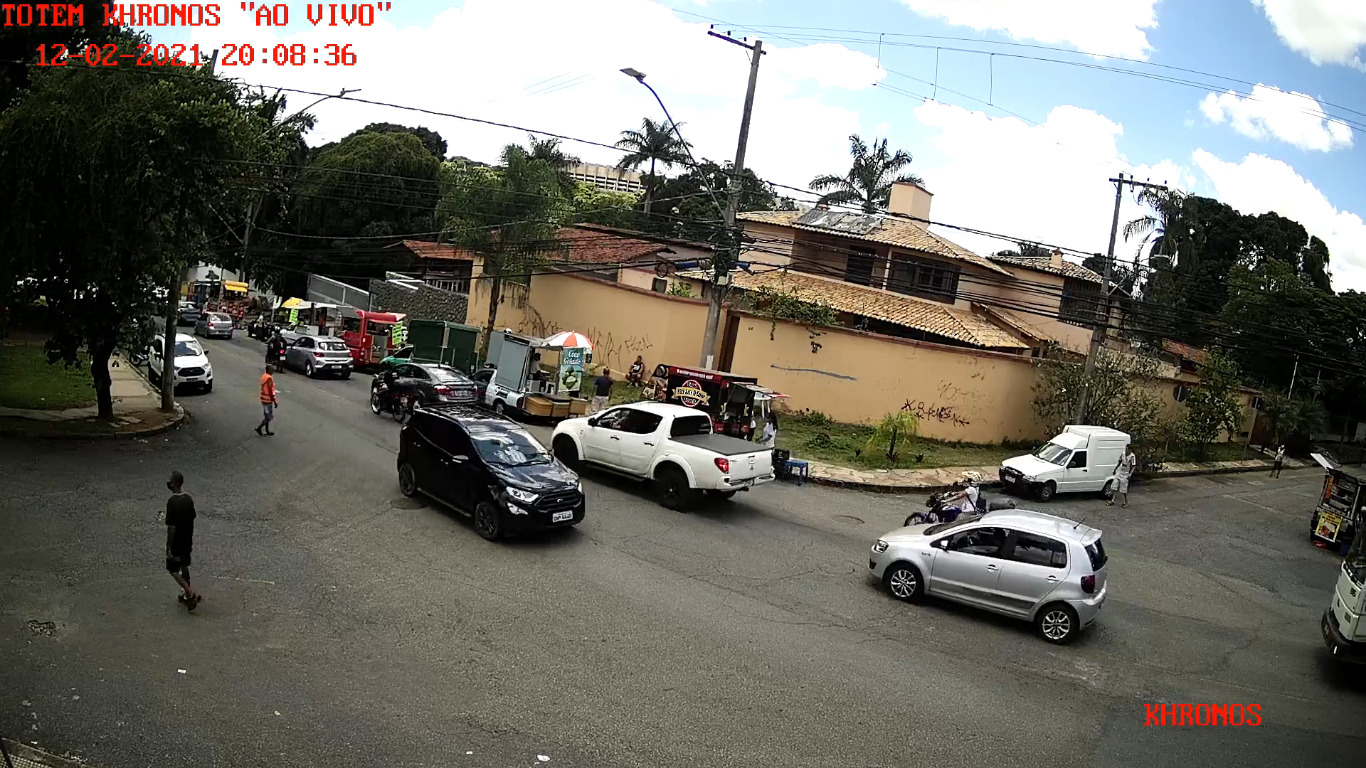car: (869, 508, 1108, 644), (396, 402, 585, 542), (550, 399, 776, 509)
